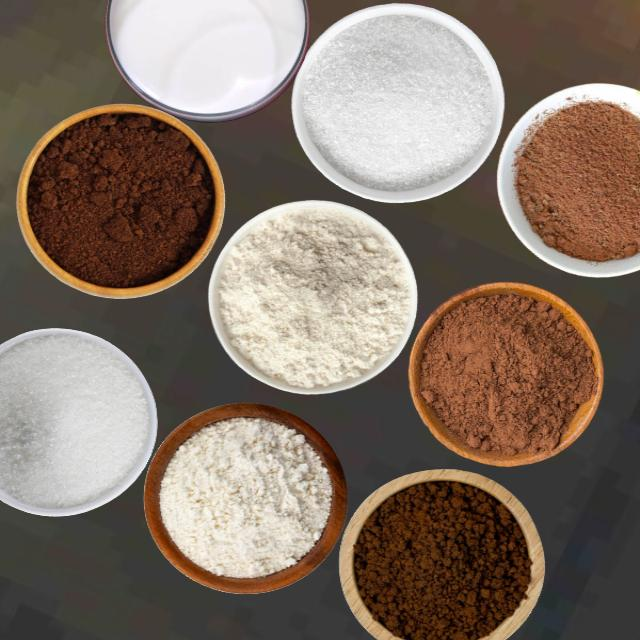Cocoa: (414, 285, 599, 462), (512, 98, 639, 262)
Coffee: (25, 108, 214, 288), (352, 479, 532, 639)
Flour: (217, 206, 410, 389), (158, 416, 332, 578)
Sugar: (299, 12, 494, 191), (0, 331, 149, 508)
